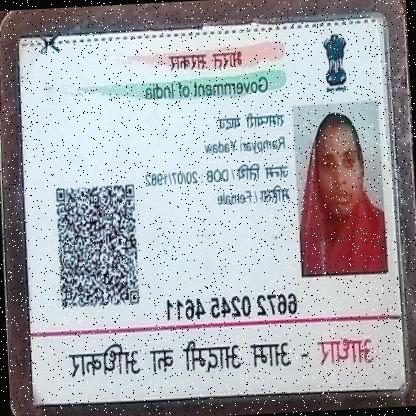aadhaar_card: (10, 7, 408, 414)
